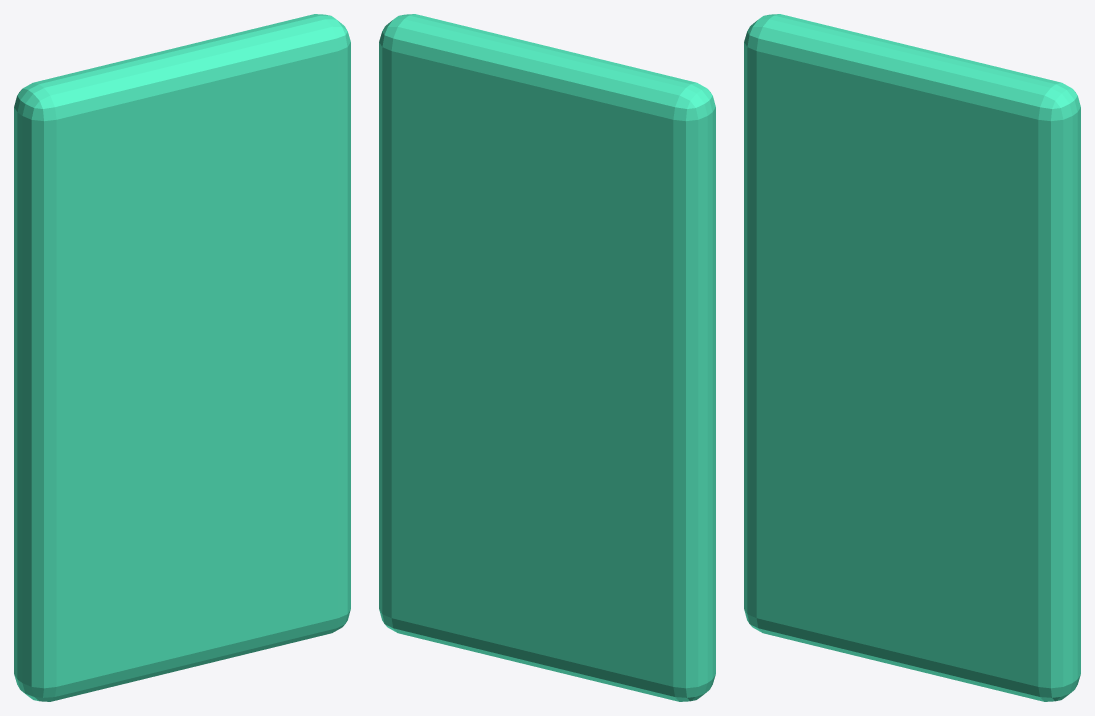
Rendered from emerald-tablet-consent.glb.
3 views of the same model, side by side, from view 1: azimuth 30°, elevation 25°; view 2: azimuth 150°, elevation 25°; view 3: azimuth 330°, elevation 25° (orthographic).
Parts seen in each view (by area): view 1: EmeraldTablet_Consent; view 2: EmeraldTablet_Consent; view 3: EmeraldTablet_Consent.
Part boxes in pixels (x1,y1,x2,y2): EmeraldTablet_Consent: (14,14,350,701); EmeraldTablet_Consent: (379,14,715,701); EmeraldTablet_Consent: (744,14,1080,701).
Bounding box in the file's own units: 0.6 × 1.08 × 0.096.
